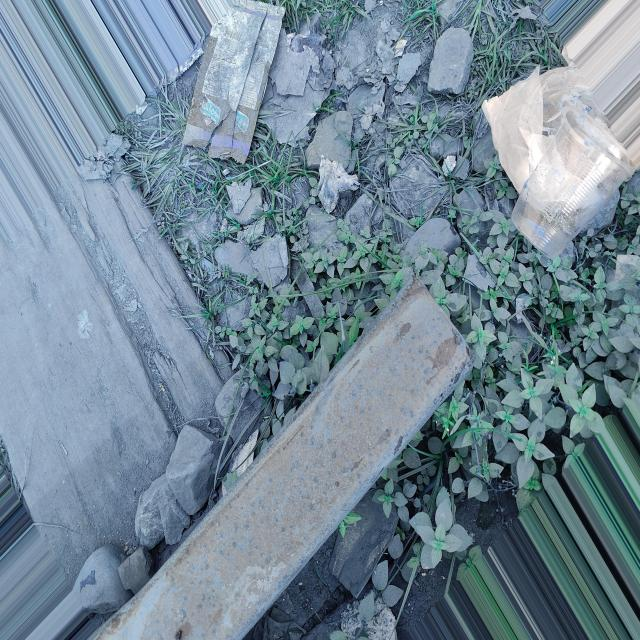crack: (383, 212, 598, 376)
